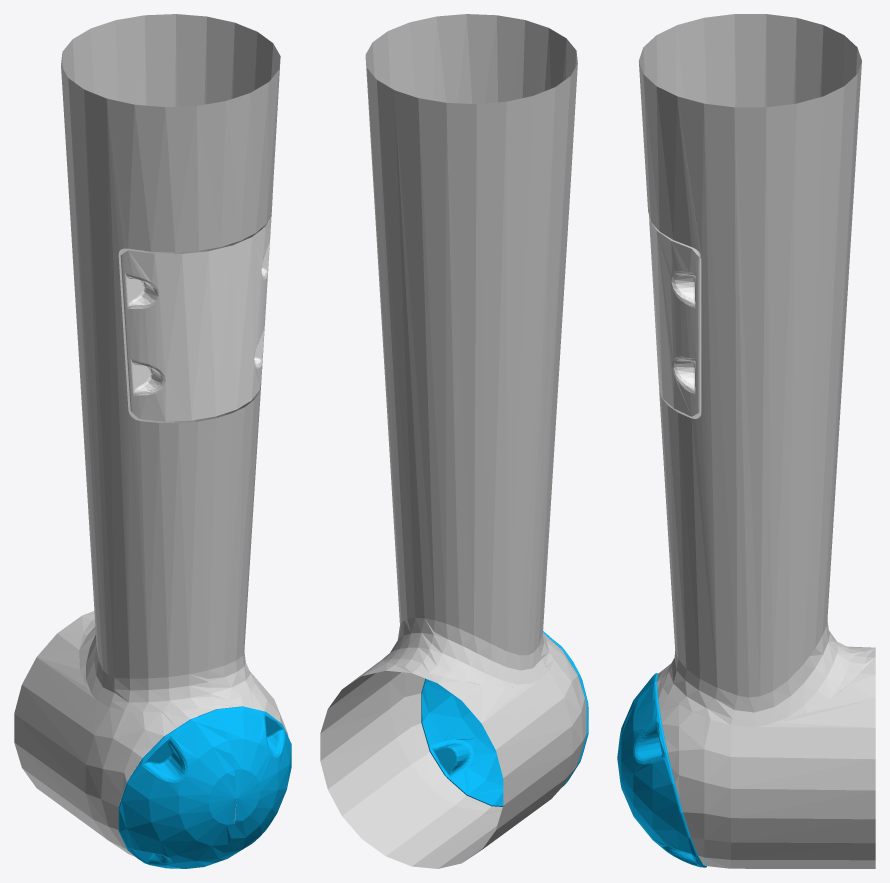
3 renders of one model, left to right at view 1: azimuth 30°, elevation 25°; view 2: azimuth 150°, elevation 25°; view 3: azimuth 270°, elevation 25°, orthographic. The views are drawn at different scales.
Visible parts, largest first — view 1: HC10.001, HC10.002, HC10.003; view 2: HC10.001, HC10.003; view 3: HC10.001, HC10.002, HC10.003.
Part boxes in pixels (x1,y1,x2,y2): HC10.001: (14, 14, 288, 856); HC10.002: (120, 216, 271, 421); HC10.003: (118, 706, 291, 868); HC10.001: (320, 14, 586, 868); HC10.003: (421, 631, 588, 806); HC10.001: (638, 14, 875, 868); HC10.002: (649, 215, 701, 416); HC10.003: (617, 673, 706, 867).
Bounding box in the file's own units: 11.31 × 45 × 13.2.
